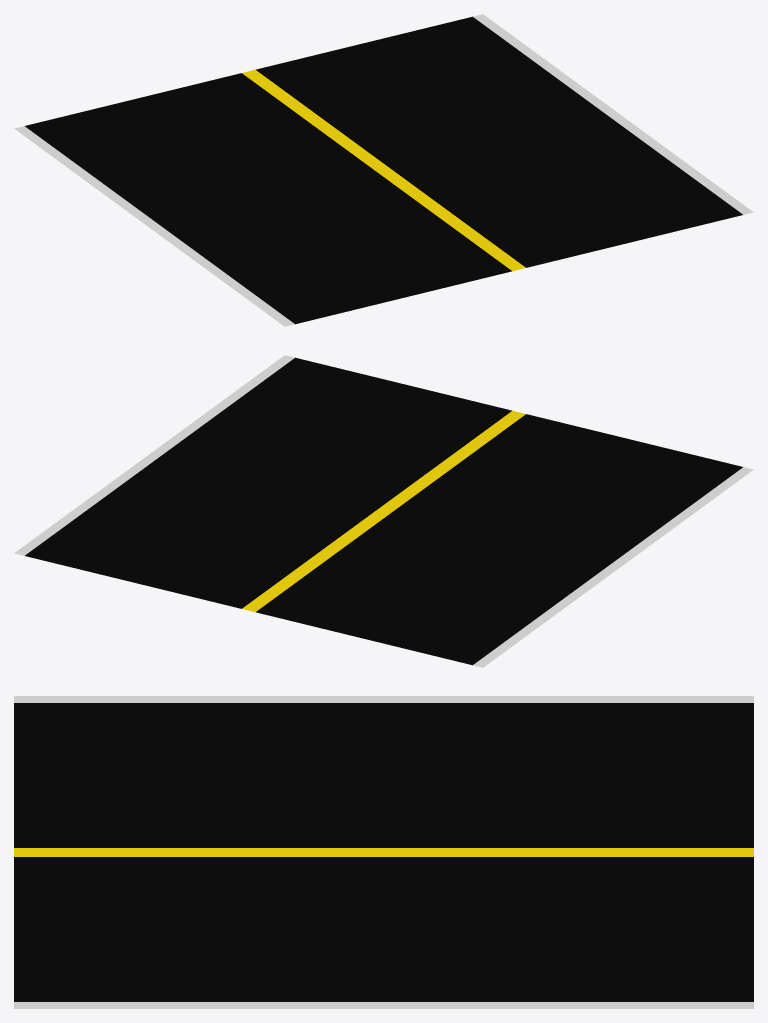
File: straight.glb
The picture shows the model from 3 angles, top to bottom: view 1: azimuth 30°, elevation 25°; view 2: azimuth 150°, elevation 25°; view 3: azimuth 270°, elevation 25°; orthographic projection. The views are drawn at different scales.
Parts seen in each view (by area): view 1: straight; view 2: straight; view 3: straight.
Boxes of the visible parts, x1,y1,x2,y2 form: straight: (14, 14, 753, 326); straight: (14, 355, 753, 667); straight: (14, 696, 753, 1008).
Size of the model in its own units: 125 by 0 by 125.
